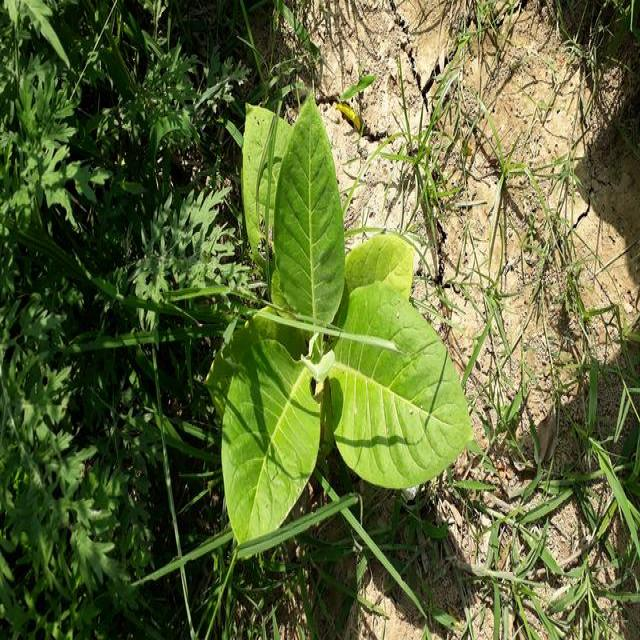crop: (214, 110, 466, 542)
